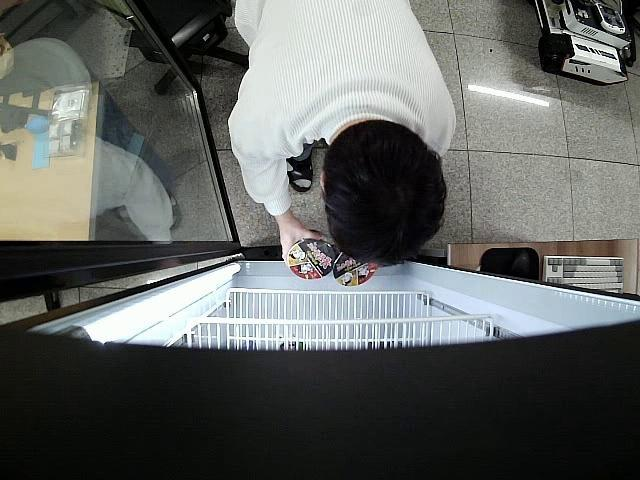07_buldak_L: (288, 238, 338, 280)
